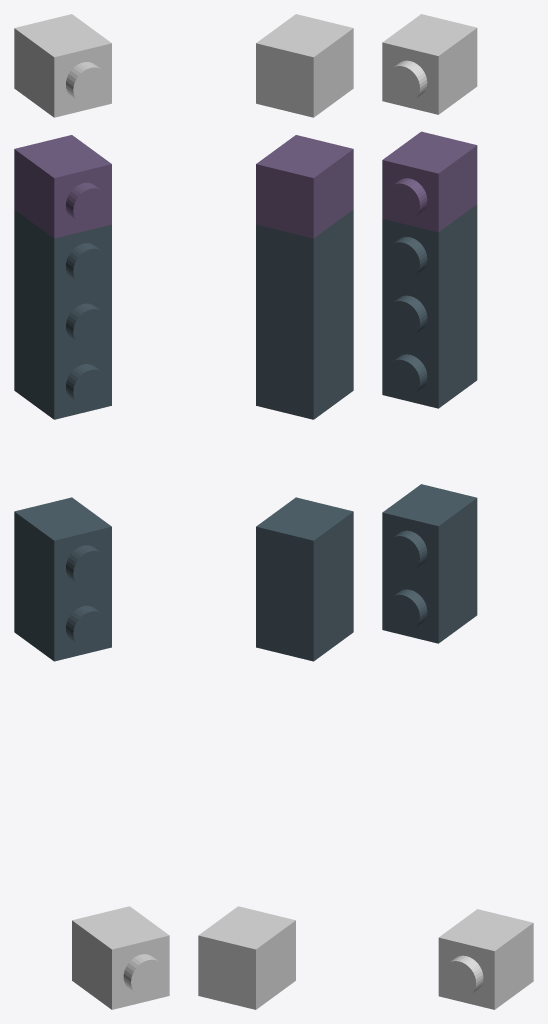
File: current.glb
The picture shows the model from 3 angles, left to right: view 1: azimuth 30°, elevation 25°; view 2: azimuth 150°, elevation 25°; view 3: azimuth 330°, elevation 25°; orthographic projection. The views are drawn at different scales.
Parts seen in each view (by area): view 1: world; view 2: world; view 3: world.
Part boxes in pixels (left/top/right/bottom): world: left=14, top=14, right=169, bottom=1009; world: left=198, top=14, right=353, bottom=1009; world: left=382, top=14, right=533, bottom=1009.
Size of the model in its own units: 16 by 128 by 11.4.
